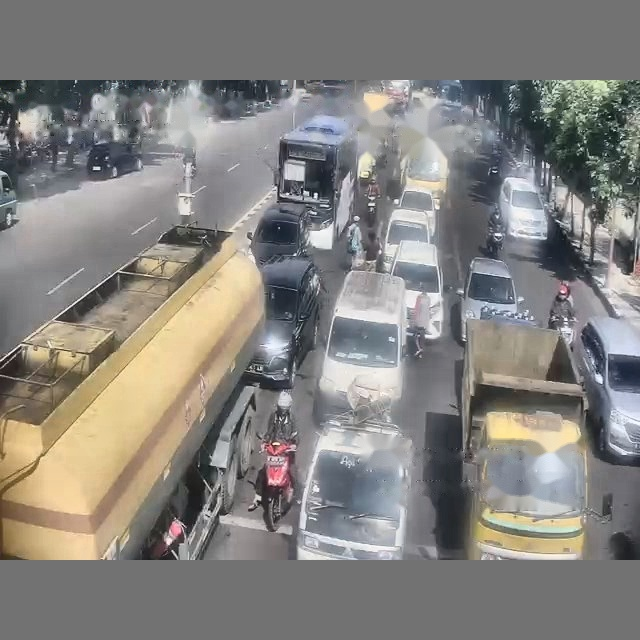Bis: (276, 115, 357, 249)
Mobil: (297, 422, 410, 559), (245, 256, 321, 387), (574, 316, 639, 459), (456, 257, 523, 342), (390, 241, 443, 339), (247, 203, 309, 265), (498, 177, 548, 240), (383, 208, 431, 271), (394, 186, 436, 237), (86, 141, 142, 177), (0, 171, 17, 228)
Motor: (261, 440, 296, 531), (549, 315, 575, 348), (486, 229, 503, 258), (366, 194, 377, 226)
Truk: (0, 224, 264, 559), (460, 319, 611, 559)
